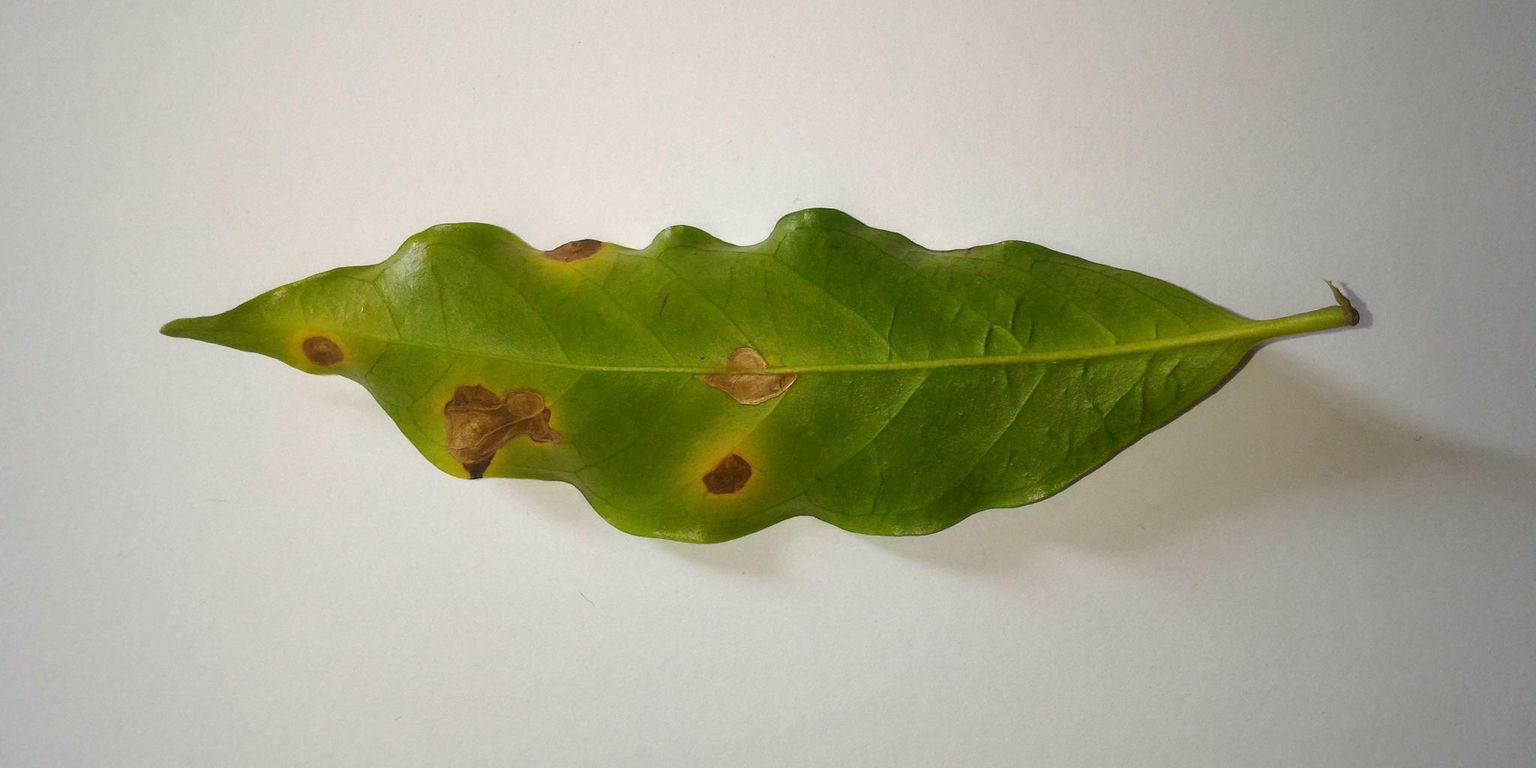Cercospora: (679, 435, 771, 511), (527, 214, 616, 282), (278, 315, 362, 383)
Miner: (432, 368, 578, 489), (685, 338, 812, 412)
